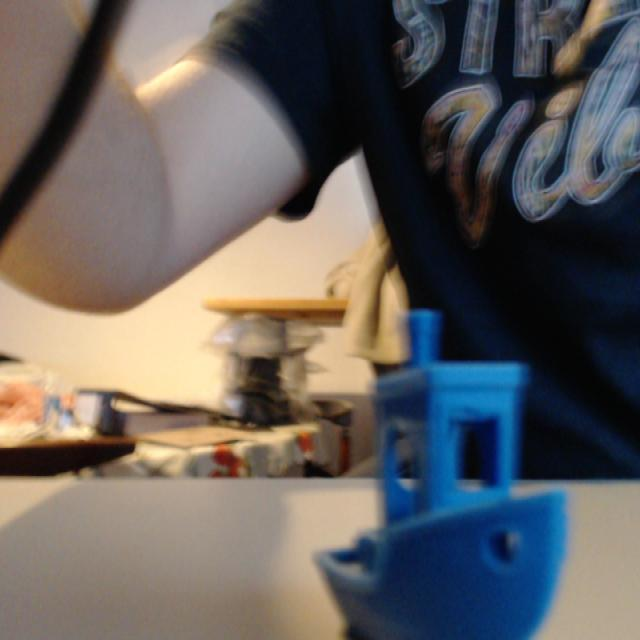benchy: (311, 304, 570, 639)
